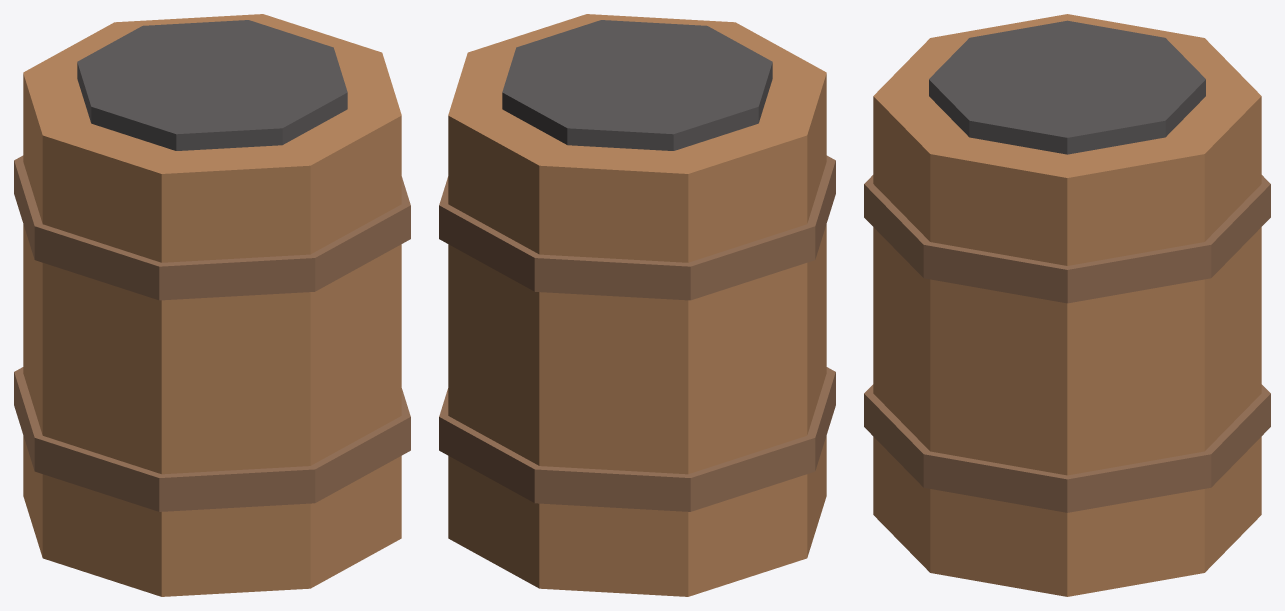
Rendered from wasteland_barrel.glb.
The picture shows the model from 3 angles, left to right: view 1: azimuth 30°, elevation 25°; view 2: azimuth 150°, elevation 25°; view 3: azimuth 270°, elevation 25°; orthographic projection.
Visible parts, largest first — view 1: Prop_Barrel; view 2: Prop_Barrel; view 3: Prop_Barrel.
Boxes of the visible parts, x1,y1,x2,y2 form: Prop_Barrel: (14,14,410,596); Prop_Barrel: (439,14,835,596); Prop_Barrel: (864,14,1270,596).
Size of the model in its own units: 0.88 by 1.04 by 0.88.
